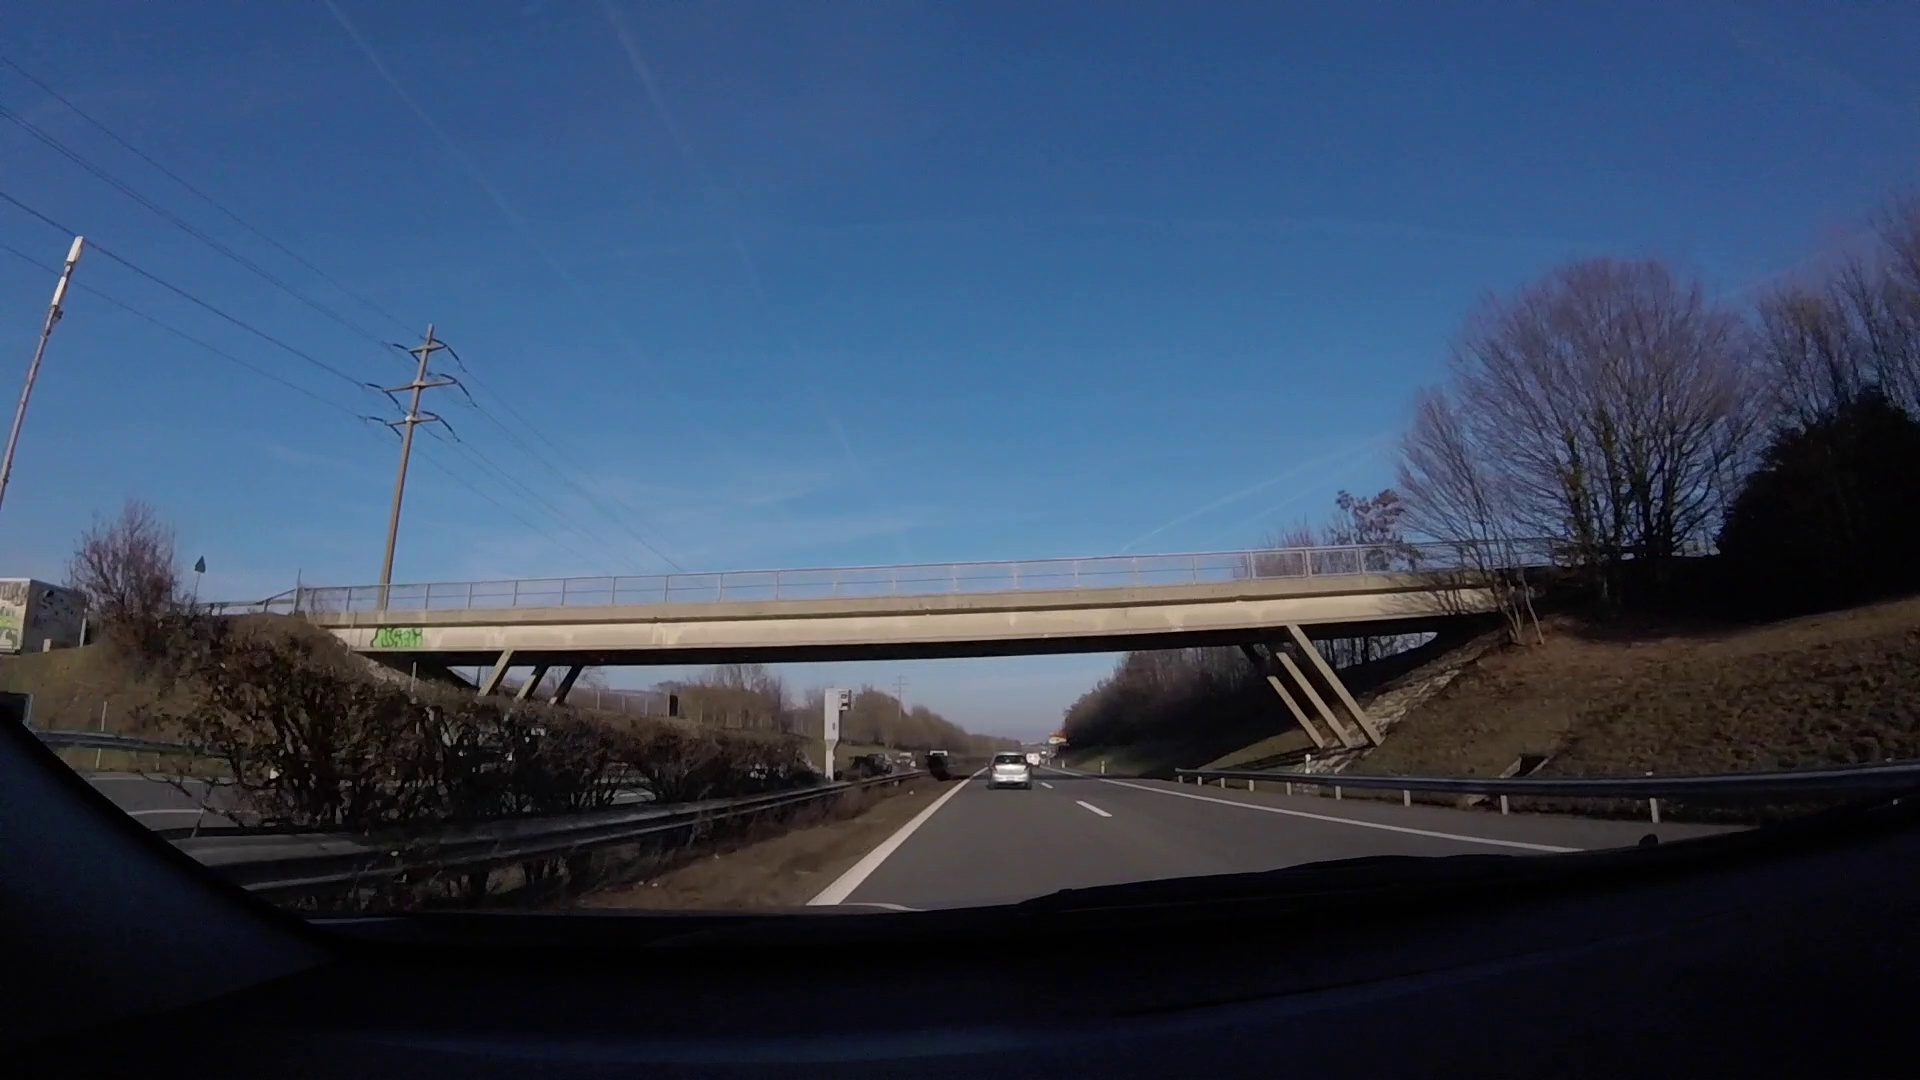radar: (820, 686, 855, 785)
